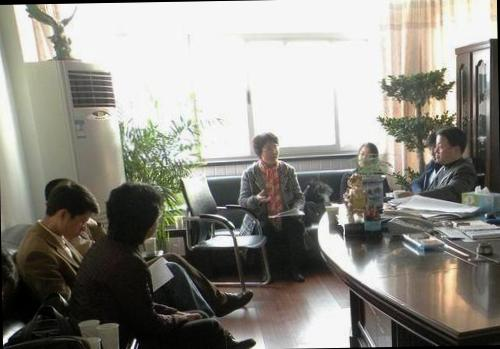no_helmet: (103, 180, 165, 254), (46, 174, 99, 242), (433, 121, 469, 166), (251, 127, 282, 168), (354, 139, 379, 172)
